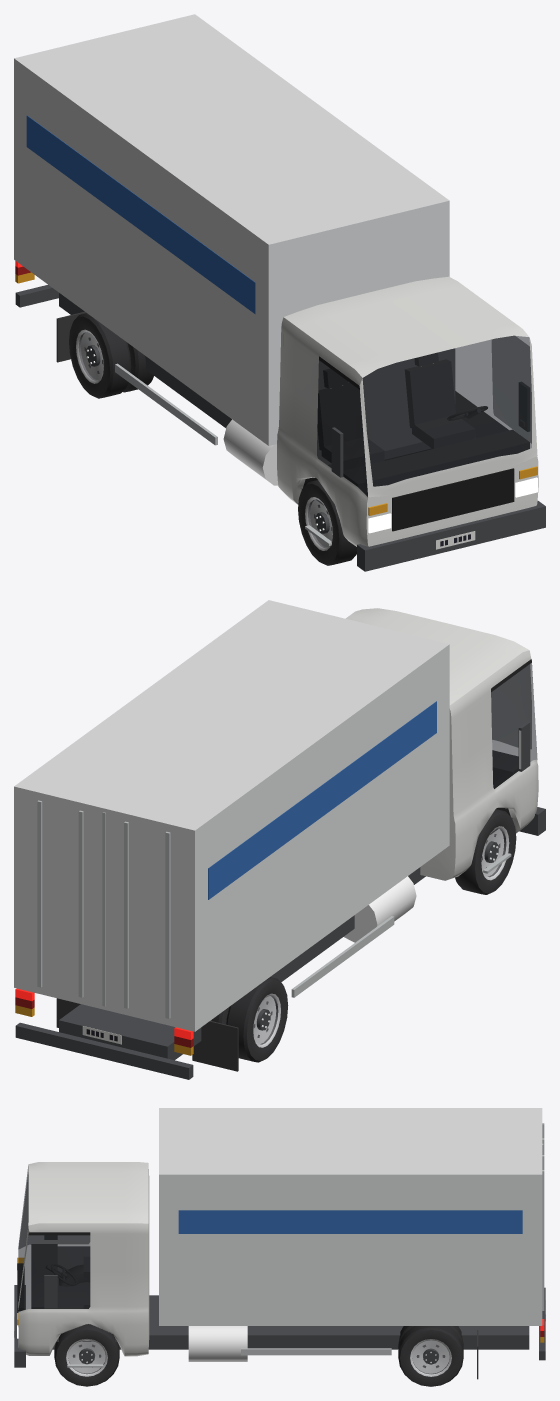
Rendered from truck.glb.
3 views of the same model, one above another, from view 1: azimuth 30°, elevation 25°; view 2: azimuth 150°, elevation 25°; view 3: azimuth 270°, elevation 25° (orthographic). The views are drawn at different scales.
Parts seen in each view (by area): view 1: truck_body, Wheel_RR, Wheel_FR; view 2: truck_body, Wheel_RR, Wheel_FR; view 3: truck_body, Wheel_RL, Wheel_FL.
Boxes of the visible parts, box(x1,y1,x2,y2) form: truck_body: box(14, 14, 545, 571); Wheel_RR: box(69, 313, 153, 398); Wheel_FR: box(298, 480, 356, 565); truck_body: box(14, 600, 545, 1079); Wheel_RR: box(211, 977, 288, 1062); Wheel_FR: box(455, 809, 516, 894); truck_body: box(14, 1108, 545, 1379); Wheel_RL: box(398, 1326, 463, 1386); Wheel_FL: box(54, 1324, 119, 1386).
Size of the model in its own units: 0.126 by 0.18 by 0.406.
8 materials, 1 textured.
